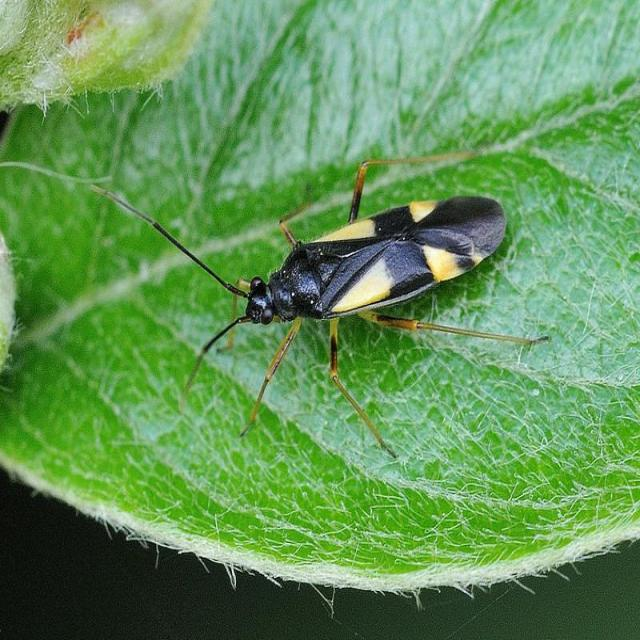Miridae-Adult-: (85, 146, 559, 450)
